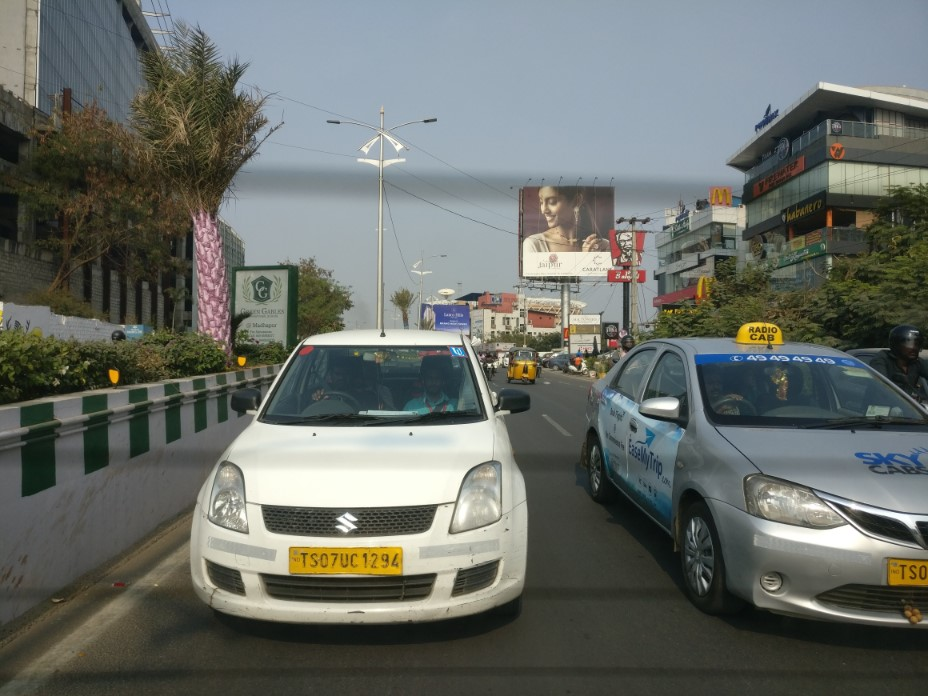swift desire: (191, 311, 541, 620)
